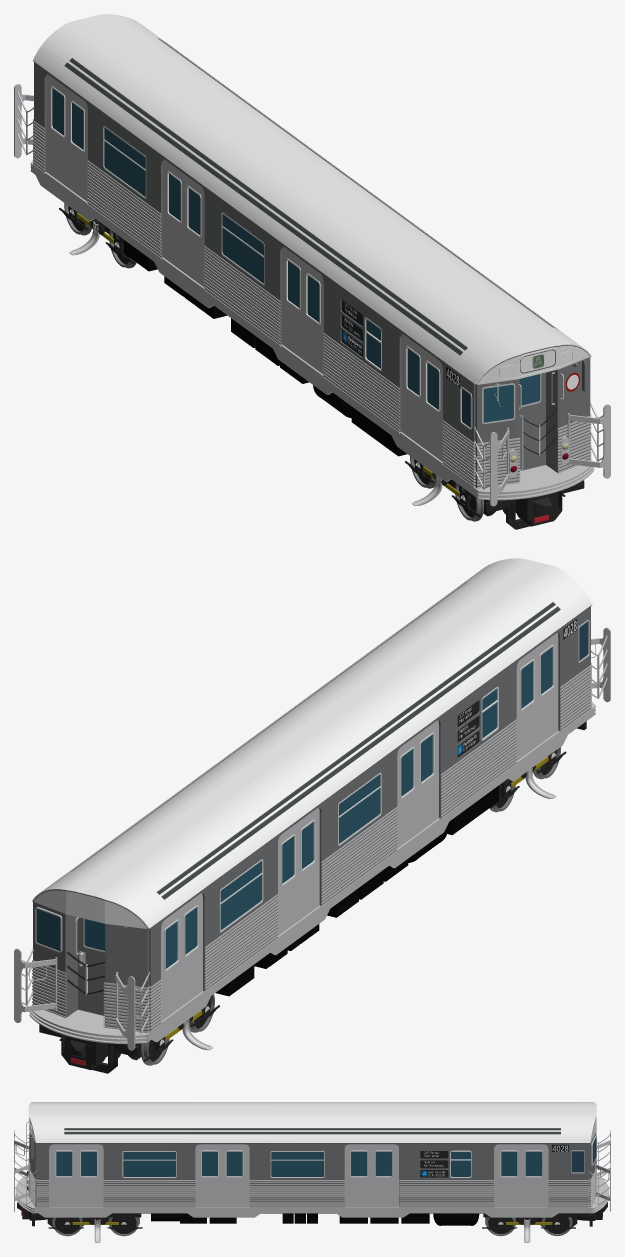
File: train.glb
3 views of the same model, one above another, from view 1: azimuth 30°, elevation 25°; view 2: azimuth 150°, elevation 25°; view 3: azimuth 270°, elevation 25° (orthographic). The views are drawn at different scales.
Visible parts, largest first — view 1: Object_11, Object_6, Object_3, Object_8, Object_22, Object_2, Object_14, Object_19, Object_20, Object_13; view 2: Object_11, Object_6, Object_3, Object_8, Object_22, Object_2, Object_13, Object_19, Object_14, Object_20; view 3: Object_6, Object_11, Object_3, Object_8, Object_22, Object_2, Object_14, Object_19, Object_13, Object_20, Object_9.
Boxes of the visible parts, left/top/right/bottom form: Object_11: left=33, top=14, right=591, bottom=455; Object_6: left=14, top=74, right=610, bottom=506; Object_3: left=34, top=62, right=590, bottom=487; Object_8: left=52, top=88, right=539, bottom=422; Object_22: left=33, top=38, right=591, bottom=384; Object_2: left=123, top=240, right=407, bottom=456; Object_14: left=59, top=206, right=565, bottom=528; Object_19: left=341, top=300, right=556, bottom=515; Object_20: left=64, top=203, right=483, bottom=521; Object_13: left=94, top=219, right=584, bottom=529; Object_11: left=32, top=558, right=592, bottom=995; Object_6: left=14, top=619, right=610, bottom=1050; Object_3: left=33, top=606, right=590, bottom=1031; Object_8: left=36, top=647, right=552, bottom=968; Object_22: left=32, top=583, right=591, bottom=929; Object_2: left=216, top=785, right=498, bottom=996; Object_13: left=39, top=723, right=584, bottom=1073; Object_19: left=67, top=619, right=576, bottom=1058; Object_14: left=59, top=721, right=586, bottom=1061; Object_20: left=141, top=747, right=560, bottom=1065; Object_6: left=14, top=1122, right=610, bottom=1217; Object_11: left=28, top=1102, right=596, bottom=1177; Object_3: left=29, top=1132, right=596, bottom=1207; Object_8: left=56, top=1137, right=596, bottom=1176; Object_22: left=31, top=1122, right=590, bottom=1143; Object_2: left=151, top=1213, right=479, bottom=1225; Object_14: left=22, top=1207, right=592, bottom=1233; Object_19: left=17, top=1144, right=607, bottom=1213; Object_13: left=31, top=1208, right=602, bottom=1227; Object_20: left=52, top=1217, right=572, bottom=1236; Object_9: left=571, top=1151, right=584, bottom=1172.
Bounding box in the file's own units: 2.94 × 3.67 × 17.29.
